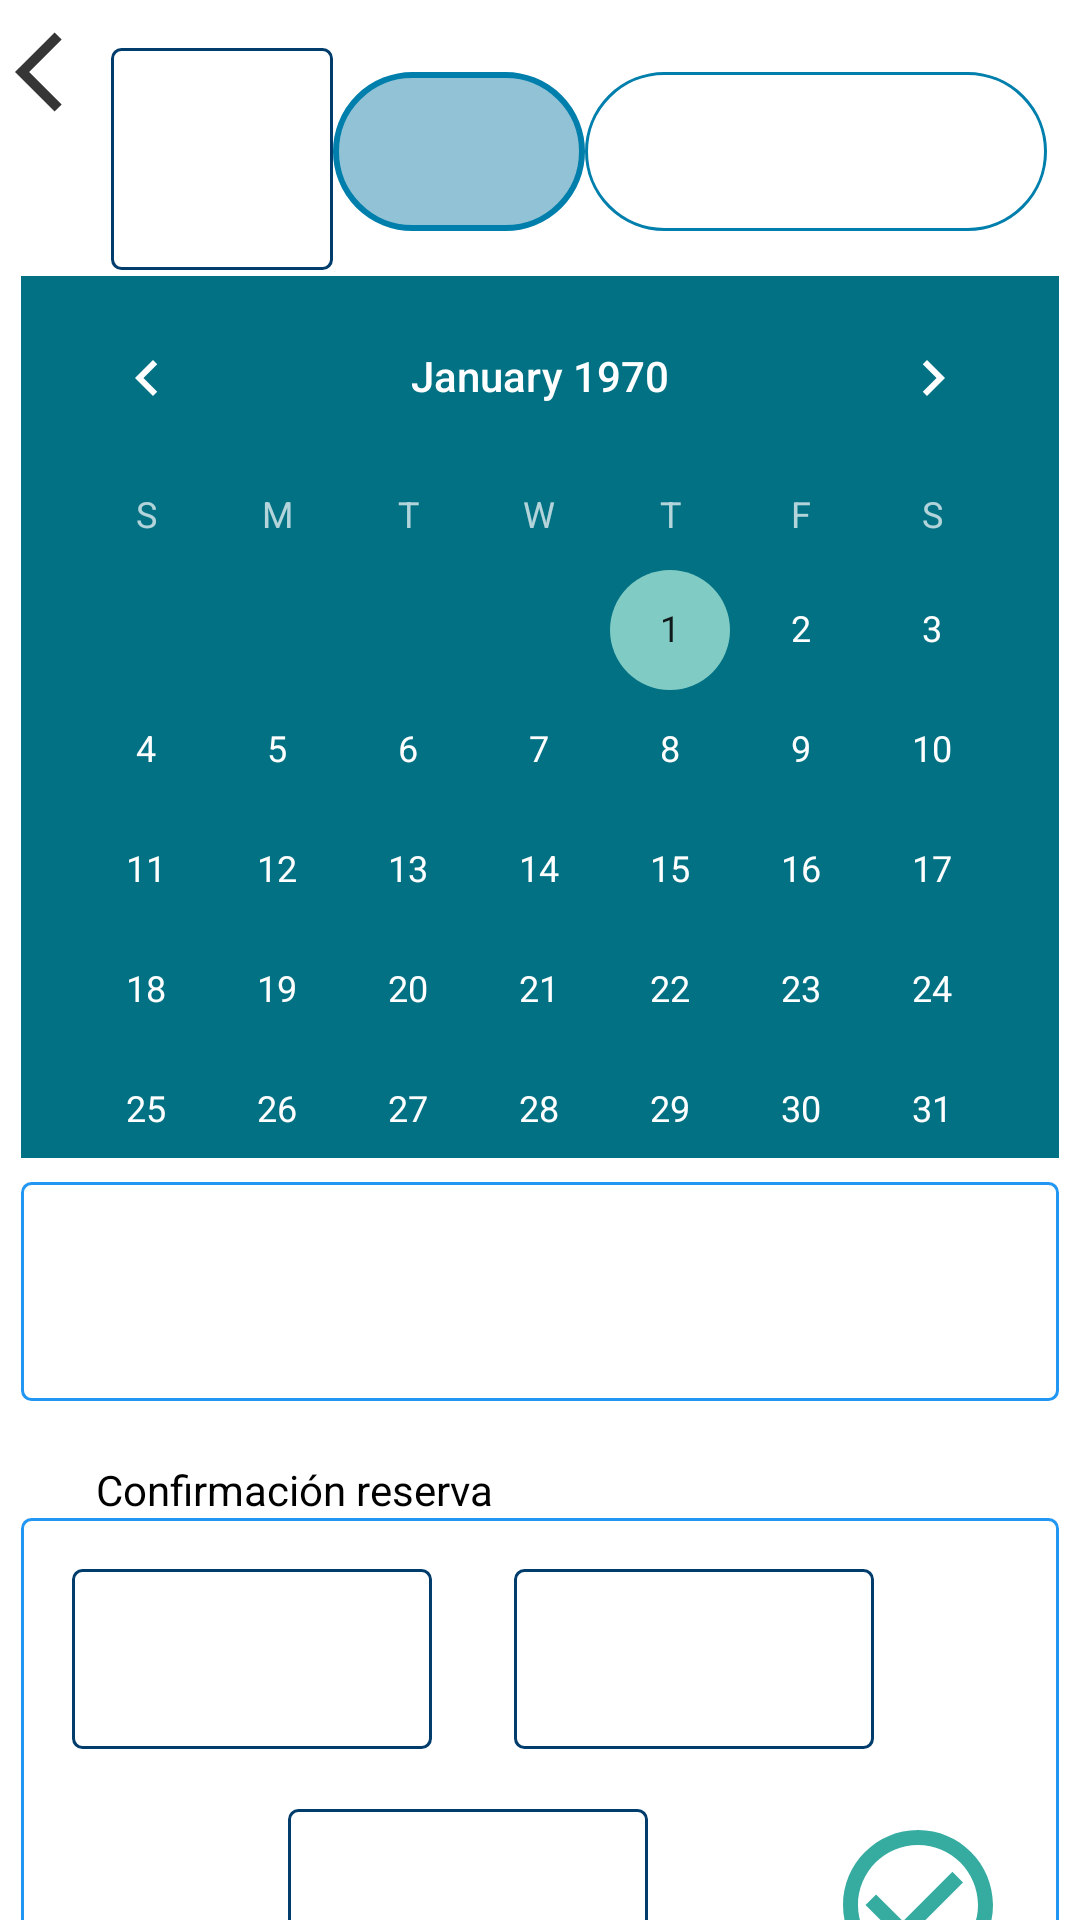

Point at icon controls on the screen. Image size 1080px×1920px, points as point (x, y).
arrow back: point (38, 72)
